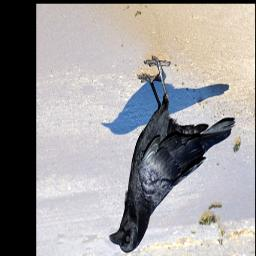Crow: (109, 55, 235, 253)
